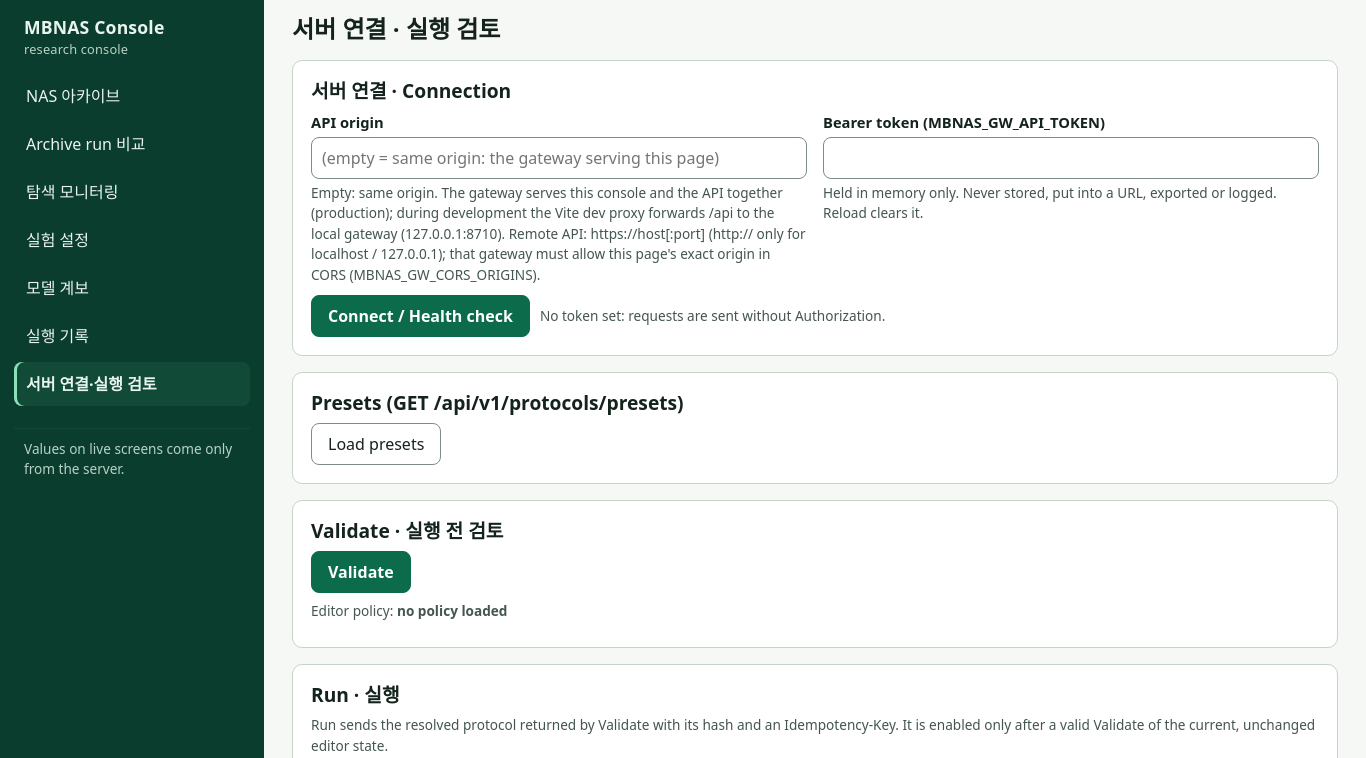
Test: no embedded template before connecting › starts with an empty policy, says so on Settings and offers no client template
Click the button with test id "nav-settings".
click(132, 240)  # box left=14, top=218, right=250, bottom=262
(page scrolled)
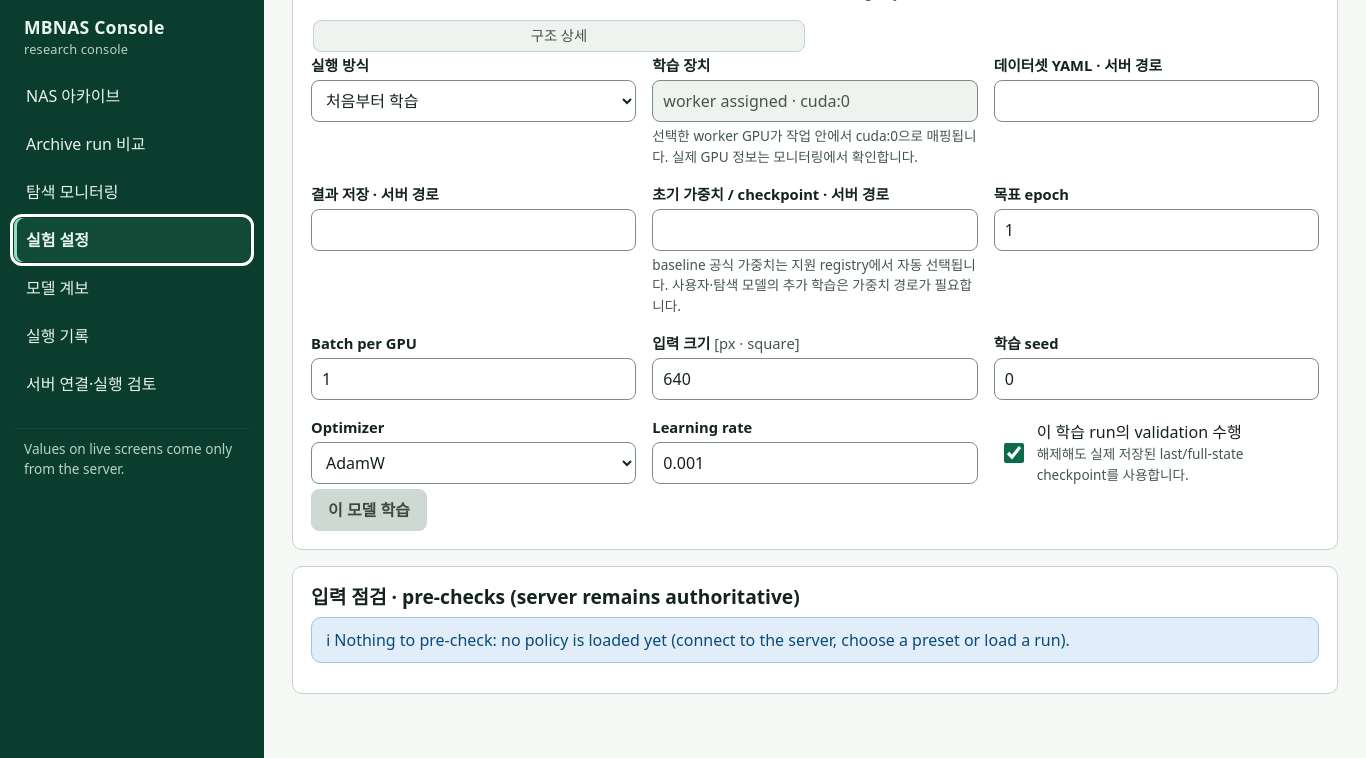
Expected: the text with test id "issues-empty-policy" shows "Nothing to pre-check: no policy is loaded yet", left=334, top=629, right=1070, bottom=651
